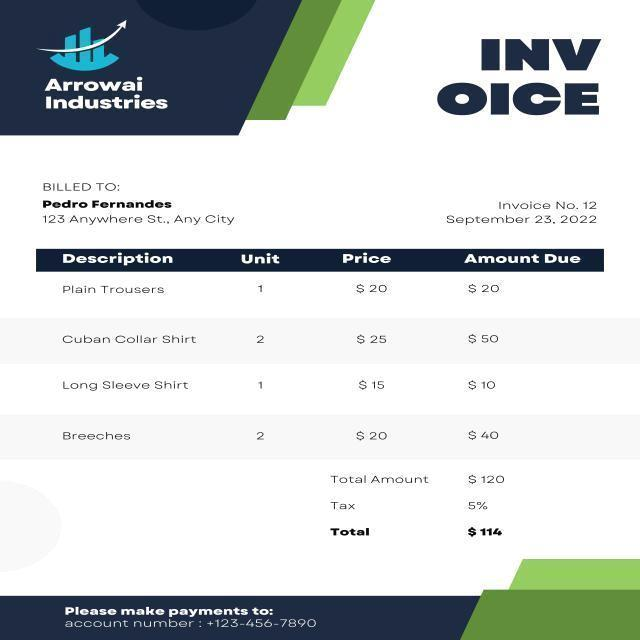paragraph: (427, 25, 610, 123), (316, 466, 517, 551), (33, 14, 178, 117), (37, 177, 240, 231), (57, 597, 325, 634), (443, 195, 602, 227)
table: (45, 243, 597, 453)
